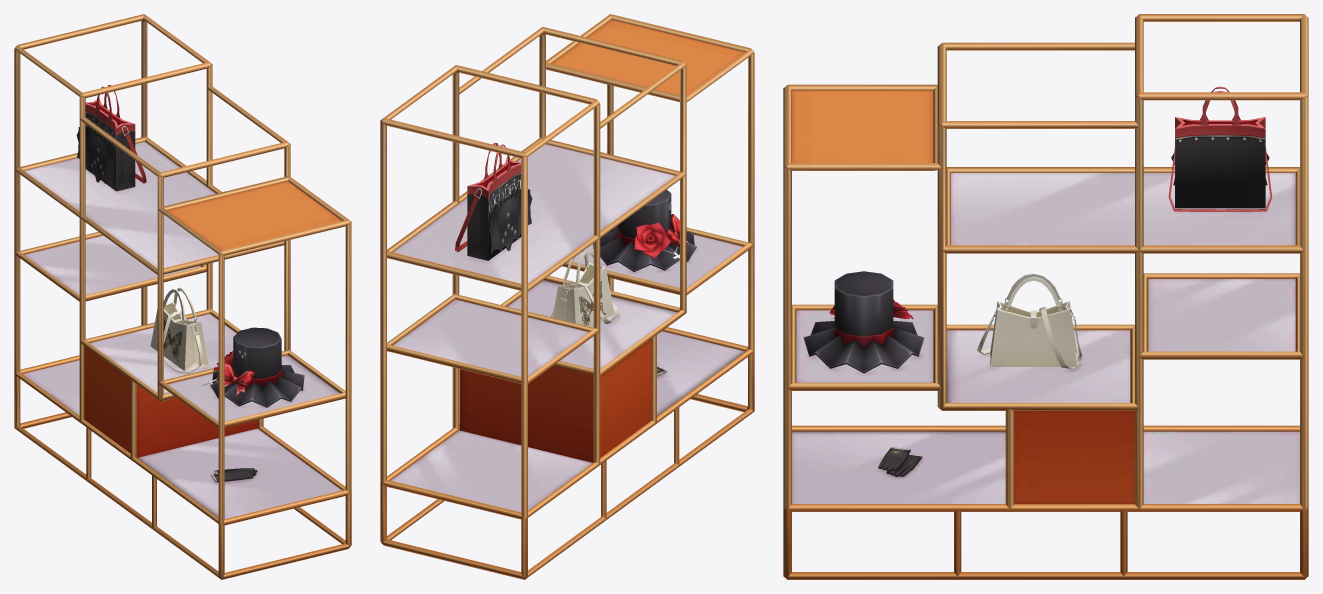
File: my_shoppingmall_01_showcase_03.glb
3 renders of one model, left to right at view 1: azimuth 30°, elevation 25°; view 2: azimuth 150°, elevation 25°; view 3: azimuth 270°, elevation 25°, orthographic. The views are drawn at different scales.
Parts seen in each view (by area): view 1: my_shoppingmall_01_showcase_03; view 2: my_shoppingmall_01_showcase_03; view 3: my_shoppingmall_01_showcase_03.
Part boxes in pixels (box(x1,y1,x2,y2)): my_shoppingmall_01_showcase_03: box(14, 14, 351, 579); my_shoppingmall_01_showcase_03: box(380, 14, 754, 579); my_shoppingmall_01_showcase_03: box(783, 14, 1308, 579).
Size of the model in its own units: 0.00516 by 0.0143 by 0.0139.
1 material, 1 textured.
